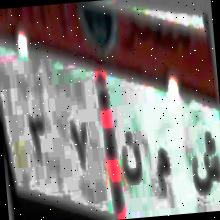3: (24, 109, 50, 168)
7: (69, 116, 91, 175)
meem: (150, 136, 176, 206)
noon: (118, 120, 144, 194)
sheen: (186, 123, 220, 203)
